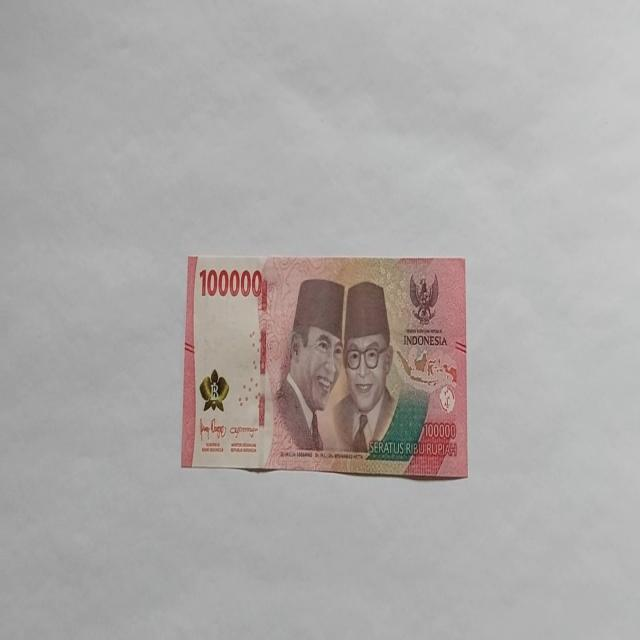seratus ribu rupiah: (180, 253, 468, 479), (274, 276, 344, 454)
